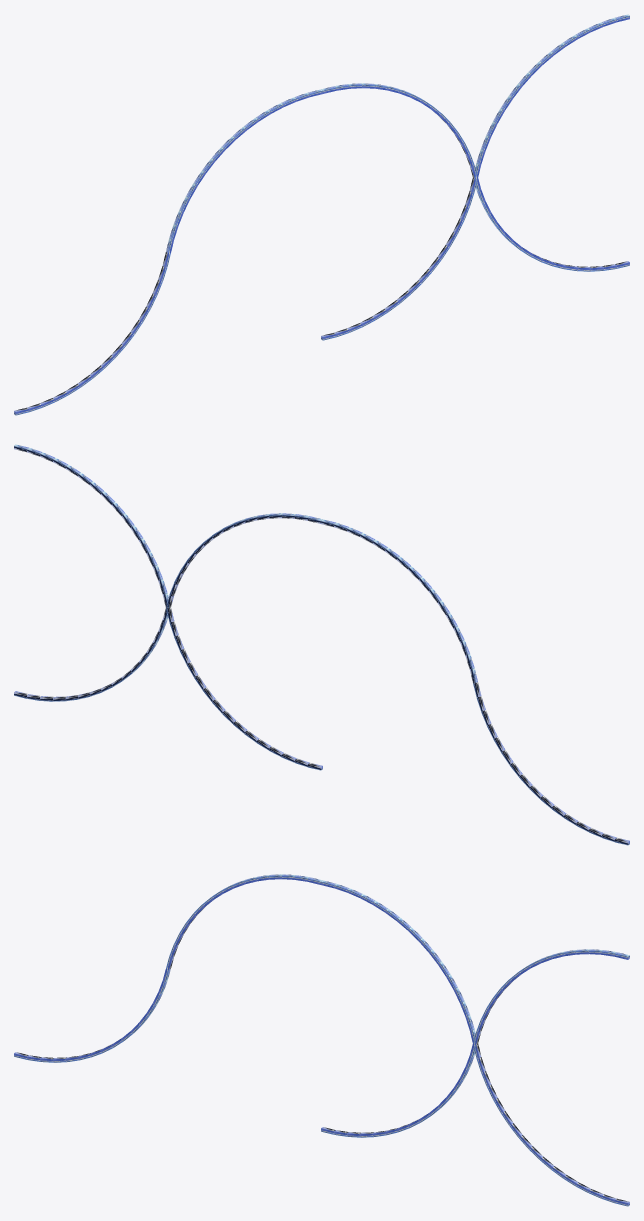
The model's file is clninder torus mimita sizing 5.glb.
The picture shows the model from 3 angles, top to bottom: view 1: azimuth 30°, elevation 25°; view 2: azimuth 150°, elevation 25°; view 3: azimuth 330°, elevation 25°; orthographic projection.
Bounding box in the file's own units: 18899 × 7351 × 100.
Materials: 96 (96 with a texture image).
